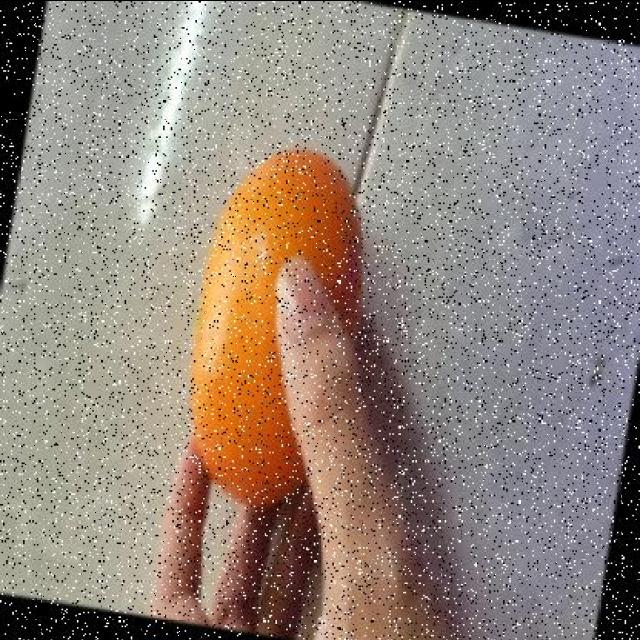Orange: (186, 148, 364, 510)
